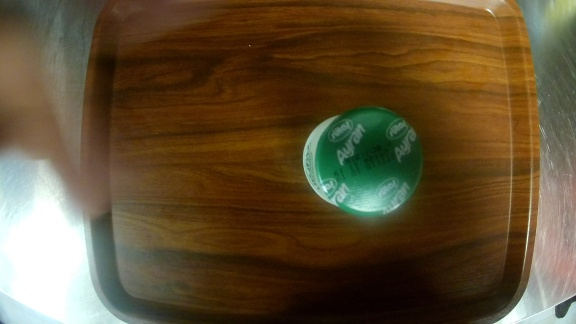ayran: (298, 103, 429, 224)
